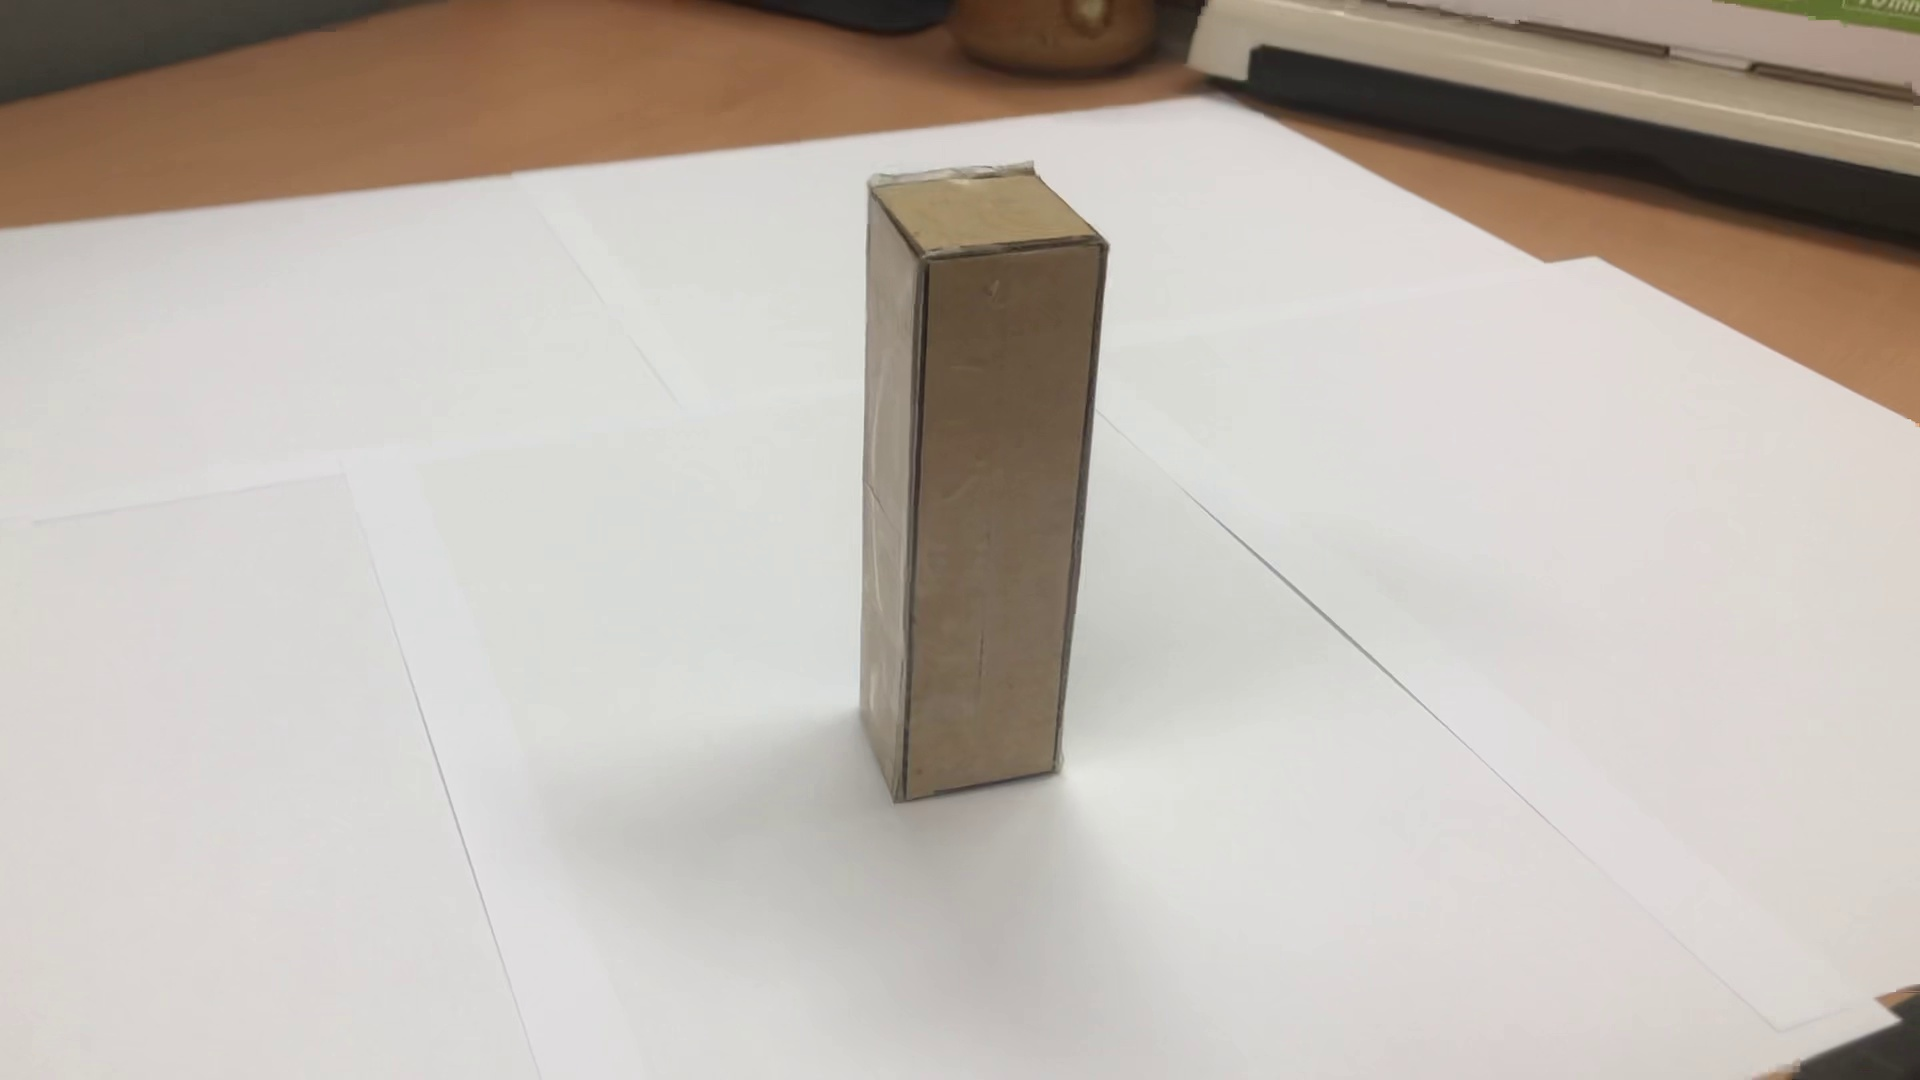box: (825, 152, 1118, 823)
